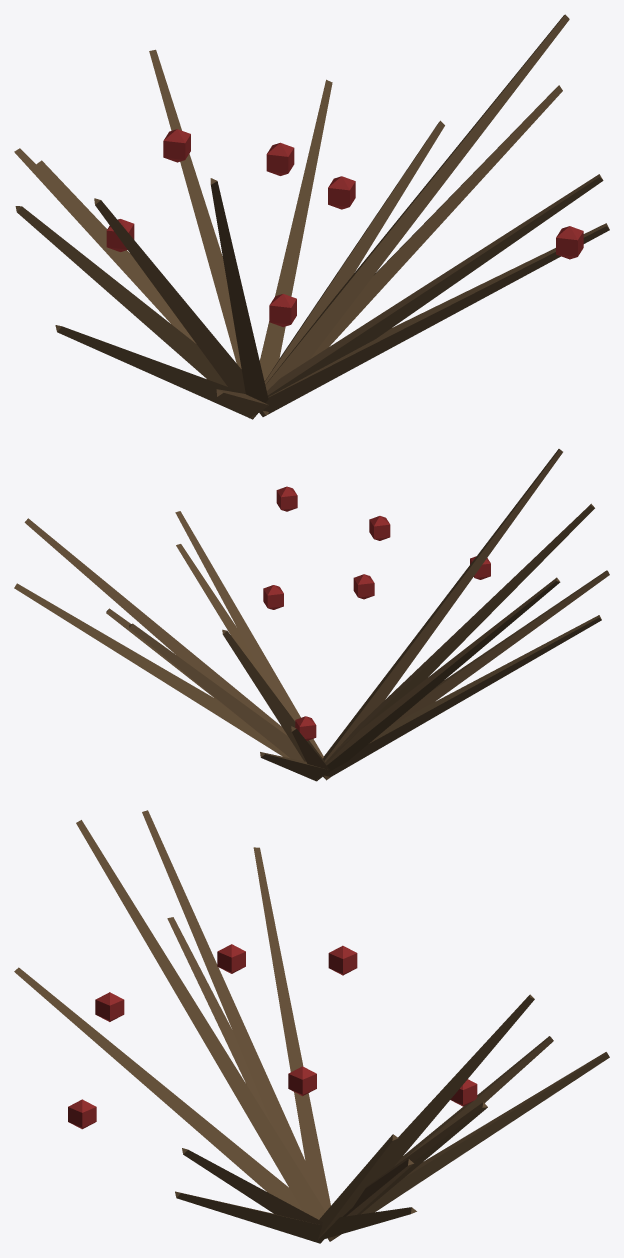
The model's file is a2f_thorn_bush.glb.
The picture shows the model from 3 angles, top to bottom: view 1: azimuth 30°, elevation 25°; view 2: azimuth 150°, elevation 25°; view 3: azimuth 270°, elevation 25°; orthographic projection. The views are drawn at different scales.
Parts seen in each view (by area): view 1: a2f_thorn_bush; view 2: a2f_thorn_bush; view 3: a2f_thorn_bush.
Boxes of the visible parts, x1,y1,x2,y2 form: a2f_thorn_bush: [14, 14, 609, 419]; a2f_thorn_bush: [14, 449, 609, 781]; a2f_thorn_bush: [14, 810, 609, 1243].
Bounding box in the file's own units: 1.6 × 0.9129 × 1.44.
